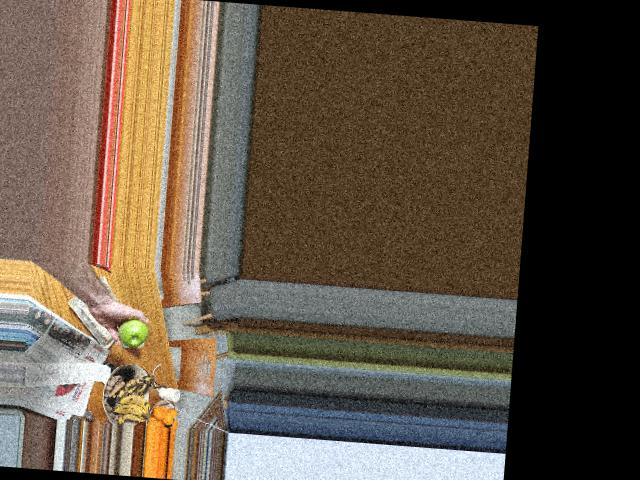apple: (116, 318, 149, 347)
